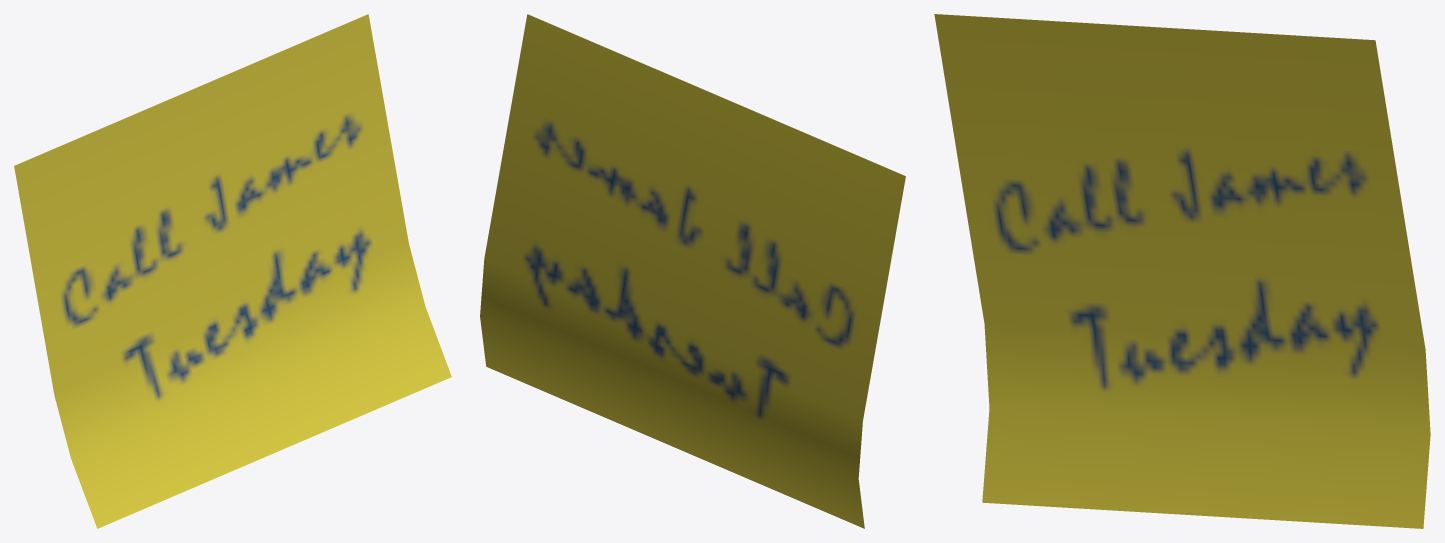
File: Sticker.FBX
The picture shows the model from 3 angles, left to right: view 1: azimuth 30°, elevation 25°; view 2: azimuth 150°, elevation 25°; view 3: azimuth 330°, elevation 25°; orthographic projection. The views are drawn at different scales.
Parts seen in each view (by area): view 1: Sticker; view 2: Sticker; view 3: Sticker.
Boxes of the visible parts, bbox=[...] form: Sticker: bbox=[14, 14, 451, 528]; Sticker: bbox=[480, 14, 905, 528]; Sticker: bbox=[934, 14, 1430, 528].
Bounding box in the file's own units: 3.18 × 3.12 × 0.2972.
